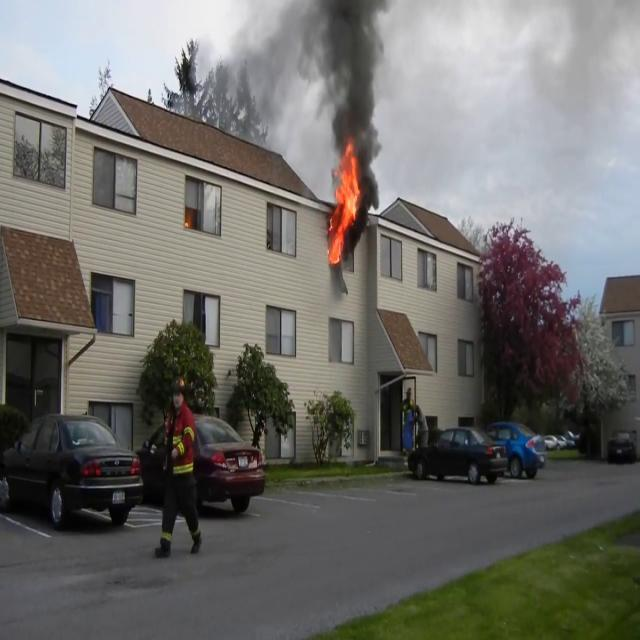Fire: (327, 138, 362, 264)
Smoke: (298, 0, 388, 171), (208, 1, 302, 145)
